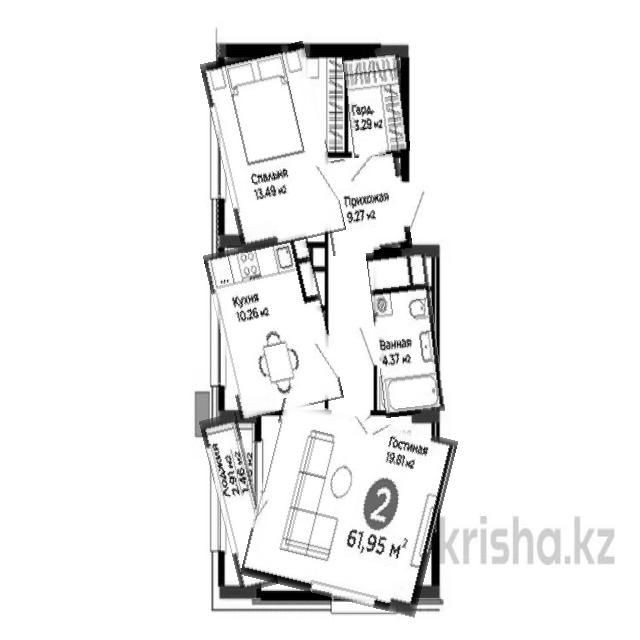balcony: (210, 413, 268, 592)
bathroom: (371, 247, 441, 417)
hallway: (323, 153, 409, 254)
kitchen: (212, 237, 336, 417)
living_room: (249, 407, 449, 609), (210, 46, 336, 248)
other: (344, 47, 407, 157)
